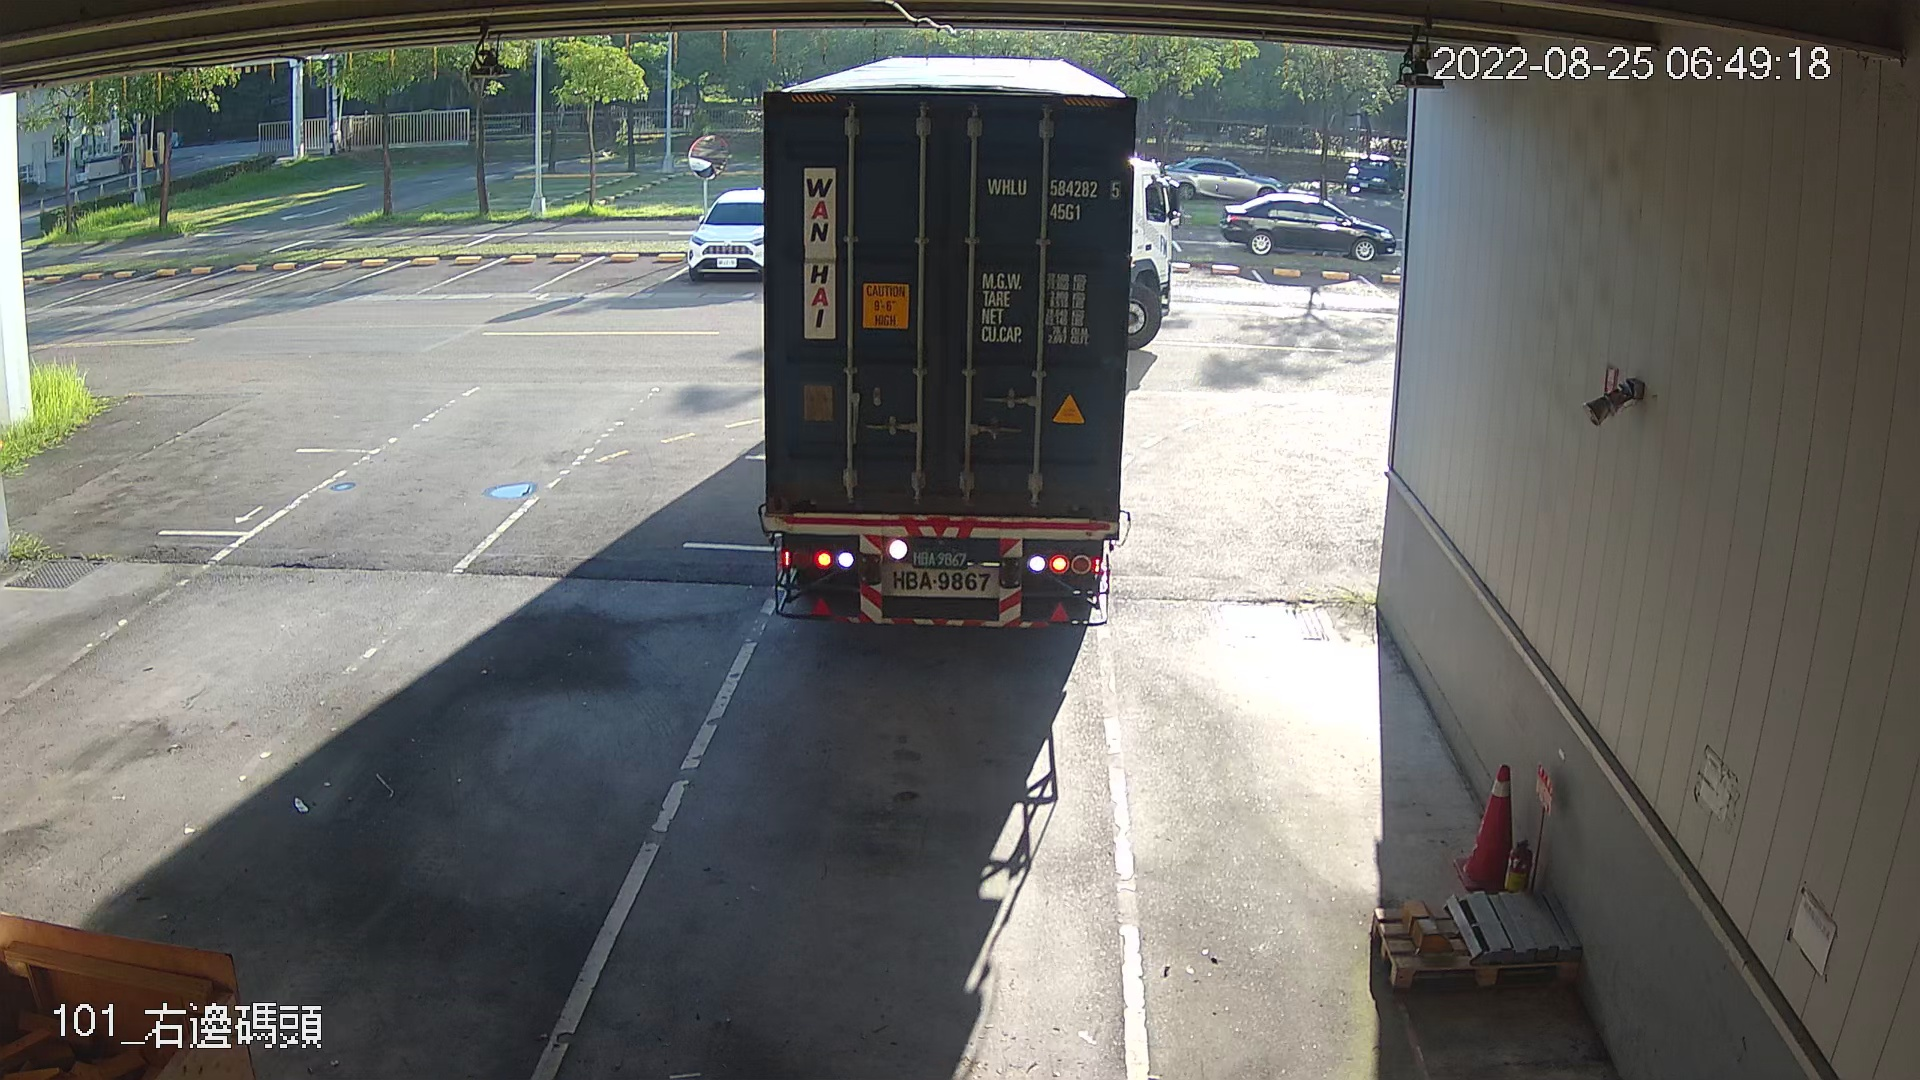container: (980, 166, 1124, 229)
